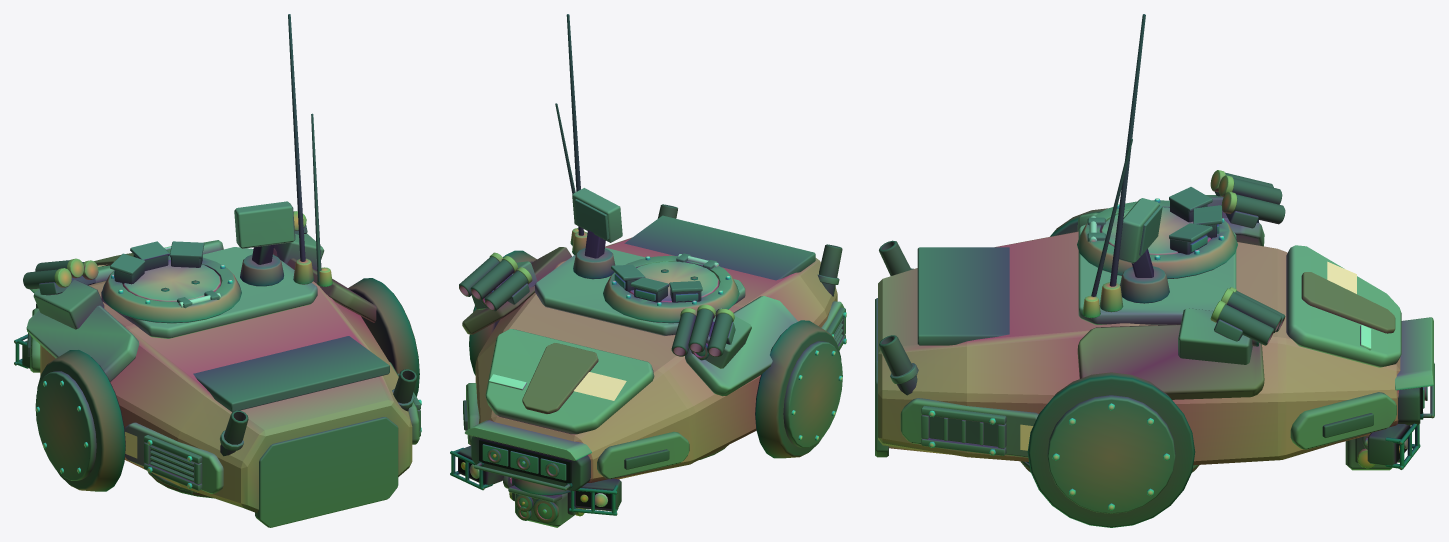
The model's file is core_scout.glb.
3 renders of one model, left to right at view 1: azimuth 30°, elevation 25°; view 2: azimuth 150°, elevation 25°; view 3: azimuth 270°, elevation 25°, orthographic. The views are drawn at different scales.
Parts seen in each view (by area): view 1: Body__armor_sub, Body__gunmetal, Body__dark, Body__armor, Body__brass, Body__armor_oxide, Body__chrome; view 2: Body__armor_sub, Body__armor, Body__gunmetal, Body__dark, Body__armor_oxide, Body__glass, Body__bore, Body__armor_dark, Body__brass, Body__decal, Body__chrome; view 3: Body__armor_sub, Body__gunmetal, Body__dark, Body__armor, Body__armor_oxide, Body__brass, Body__armor_dark, Body__decal, Body__chrome.
Part boxes in pixels (x1,y1,x2,y2): Body__armor_sub: [30, 201, 419, 512]; Body__gunmetal: [14, 225, 420, 527]; Body__dark: [22, 14, 419, 498]; Body__armor: [26, 240, 317, 493]; Body__brass: [54, 211, 332, 287]; Body__armor_oxide: [94, 248, 376, 322]; Body__chrome: [36, 264, 421, 488]; Body__armor_sub: [466, 188, 837, 482]; Body__armor: [465, 247, 844, 460]; Body__gunmetal: [450, 215, 845, 523]; Body__dark: [458, 14, 842, 515]; Body__armor_oxide: [462, 247, 598, 413]; Body__glass: [482, 274, 705, 519]; Body__bore: [459, 439, 611, 508]; Body__armor_dark: [515, 199, 609, 527]; Body__brass: [489, 228, 734, 516]; Body__decal: [574, 372, 626, 400]; Body__chrome: [511, 254, 846, 477]; Body__armor_sub: [878, 195, 1400, 465]; Body__gunmetal: [875, 187, 1434, 513]; Body__dark: [878, 14, 1423, 527]; Body__armor: [1077, 207, 1433, 390]; Body__armor_oxide: [1077, 272, 1395, 399]; Body__brass: [1082, 170, 1375, 468]; Body__armor_dark: [1139, 205, 1392, 470]; Body__decal: [1020, 261, 1356, 450]; Body__chrome: [928, 198, 1367, 510].
Bounding box in the file's own units: 1.33 × 1.64 × 1.7.
